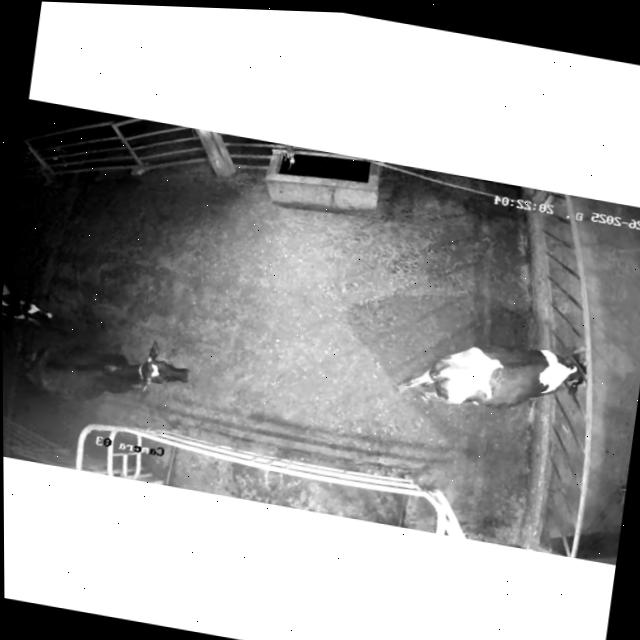stand: (11, 311, 199, 429)
